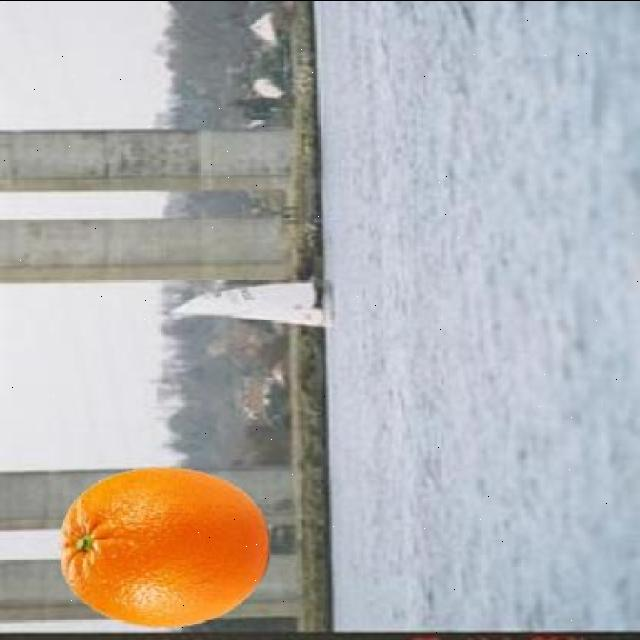Orange: (57, 466, 271, 629)
